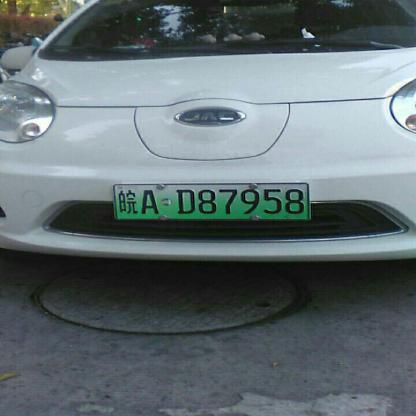lp: (114, 183, 310, 219)
